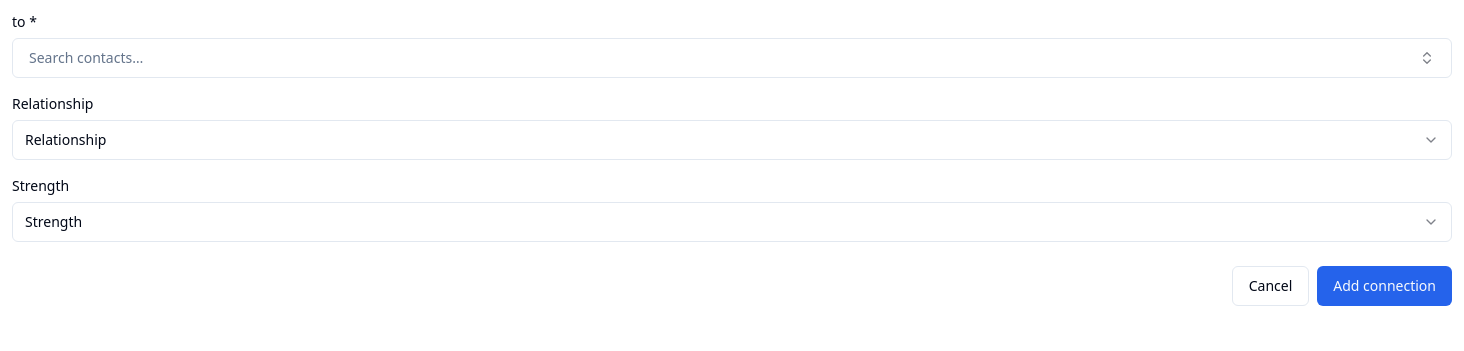
it: AddConnectionForm — validation (no toPerson) › shows toPersonRequired error when submitted without toPerson
What coordinates should you click on to do the following:
click the button "Add connection"
I would click on:
 (1385, 286)
Its box is [1317, 266, 1452, 306].
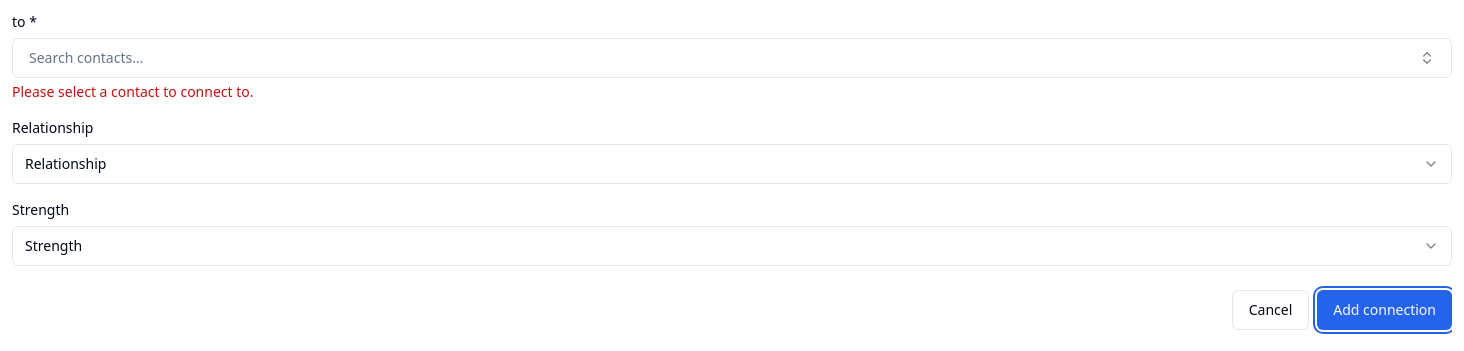
Result: the text "Please select a contact to connect to." is shown at [12, 82, 254, 101]
